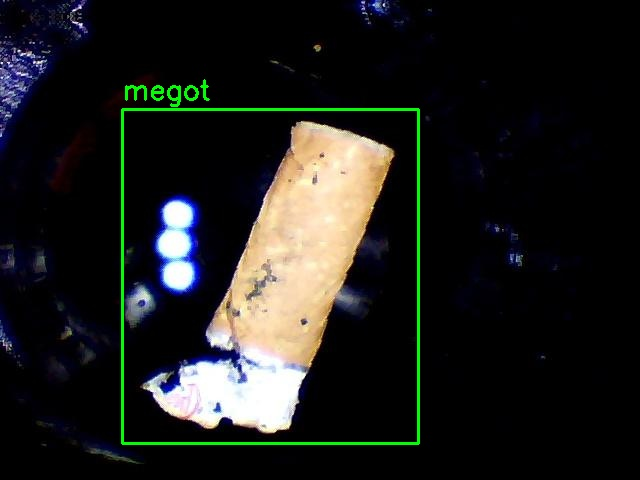megot: (122, 109, 418, 443)
